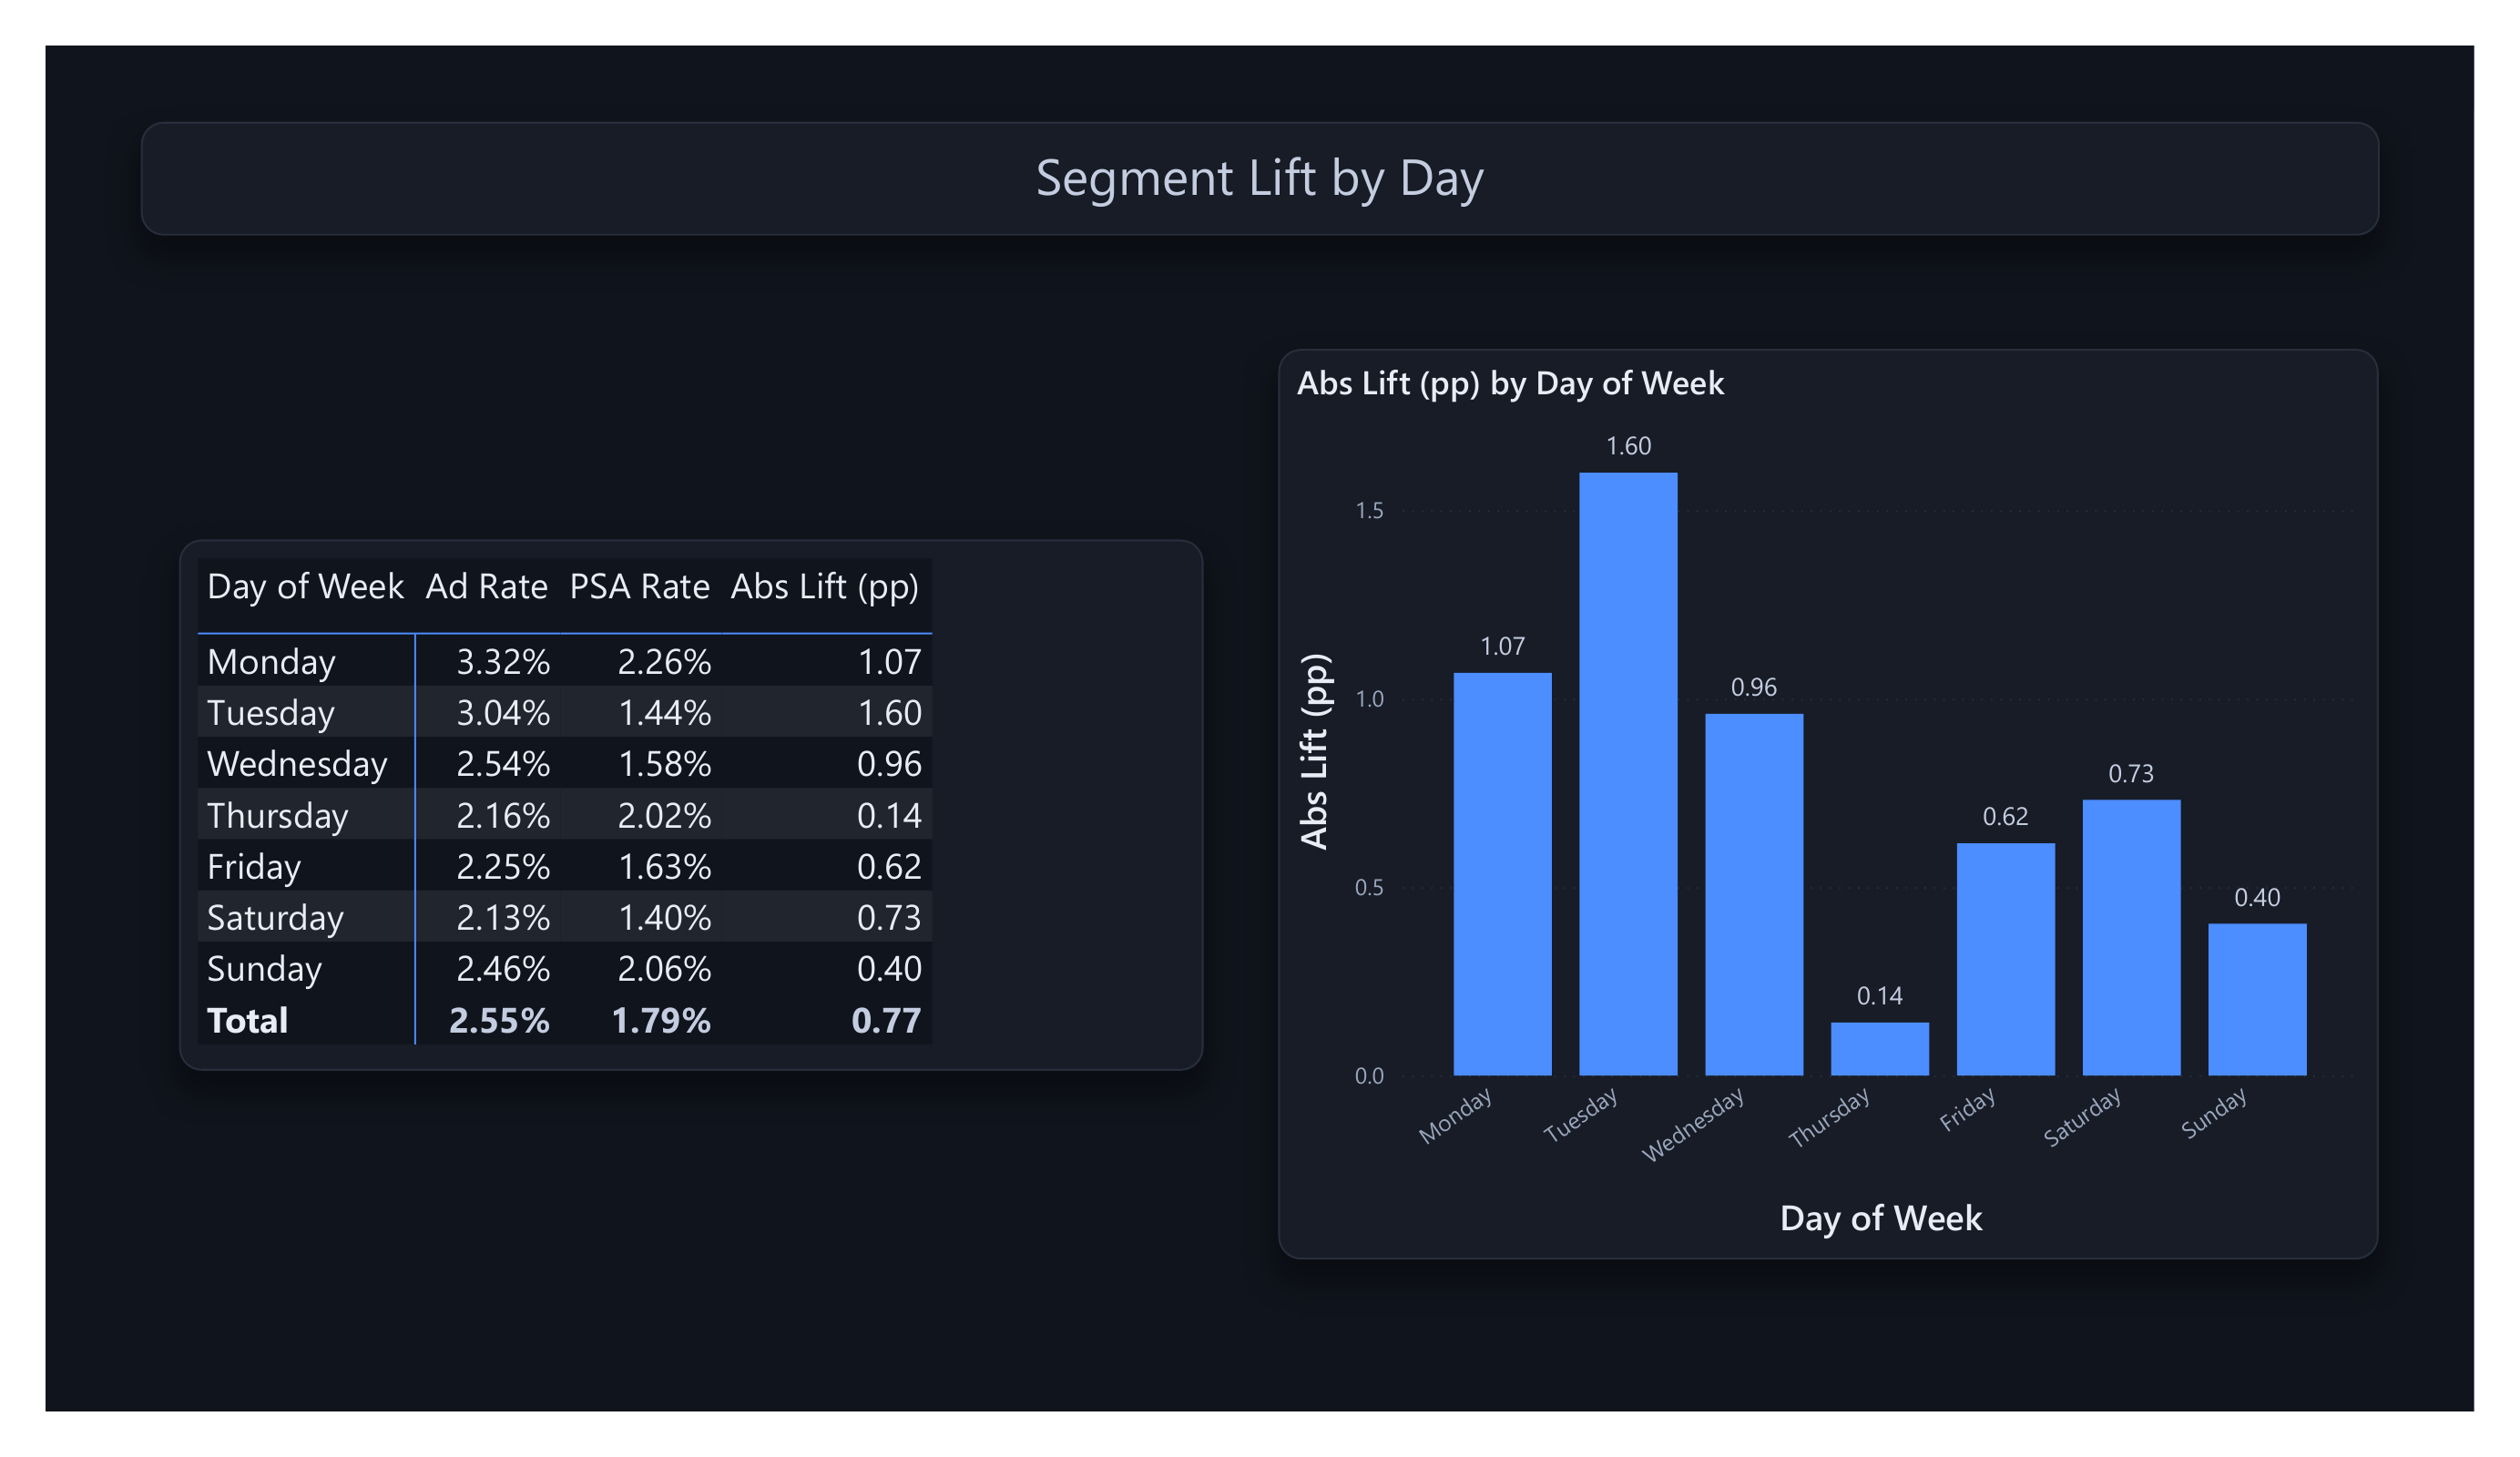

The page's visual inventory and layout, read from the dashboard file:
{"tool":"powerbi","page":{"name":"Segments","canvas":[1280,720],"ordinal":3},"visuals":[{"type":"pivotTable","fields":{"Rows":["DayOrder.most_ads_day"],"Values":["marketing_AB.Ad Rate","marketing_AB.PSA Rate","marketing_AB.Abs Lift (pp)"]},"box":[70,260,540,280],"z":0},{"type":"textbox","box":[50,40,1180,60],"z":1},{"type":"clusteredColumnChart","fields":{"Category":["DayOrder.most_ads_day"],"Y":["marketing_AB.Abs Lift (pp)"]},"box":[650,160,580,480],"z":2}]}

Visuals, with their boxes on the page's 1280x720 design canvas (x1, y1, x2, y2). These are canvas units, not pixel positions in the 2520x1457 screenshot, which may show the page scaled, cropped or inside an application window:
pivotTable - DayOrder.most_ads_day x marketing_AB.Ad Rate: BBox(70, 260, 610, 540)
textbox: BBox(50, 40, 1230, 100)
clusteredColumnChart - DayOrder.most_ads_day x marketing_AB.Abs Lift (pp): BBox(650, 160, 1230, 640)
